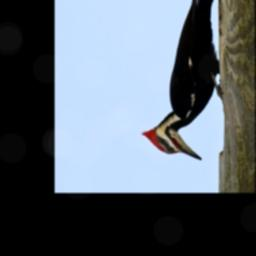Woodpecker: (138, 0, 221, 162)
